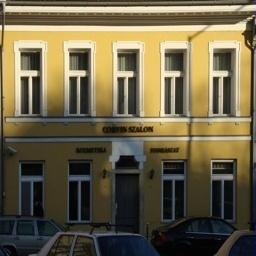building: (0, 0, 256, 236)
